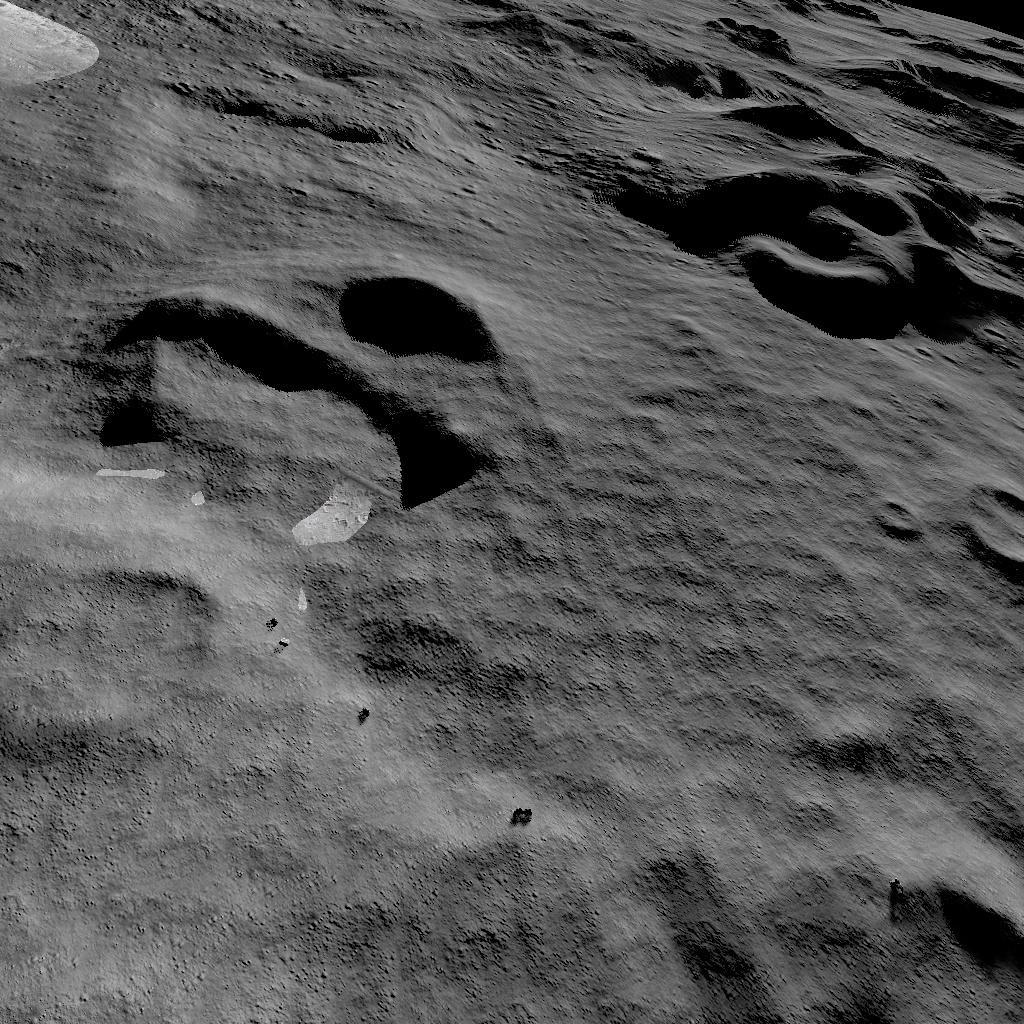Boulders: (0, 0, 101, 84)
Crater: (539, 0, 1024, 344), (76, 263, 507, 514), (2, 558, 227, 742), (806, 844, 1024, 1024), (946, 440, 1024, 590), (852, 477, 923, 540)
Plan surface: (539, 390, 785, 1024), (0, 779, 495, 1024)
